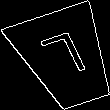L_S: (38, 29, 94, 88)
